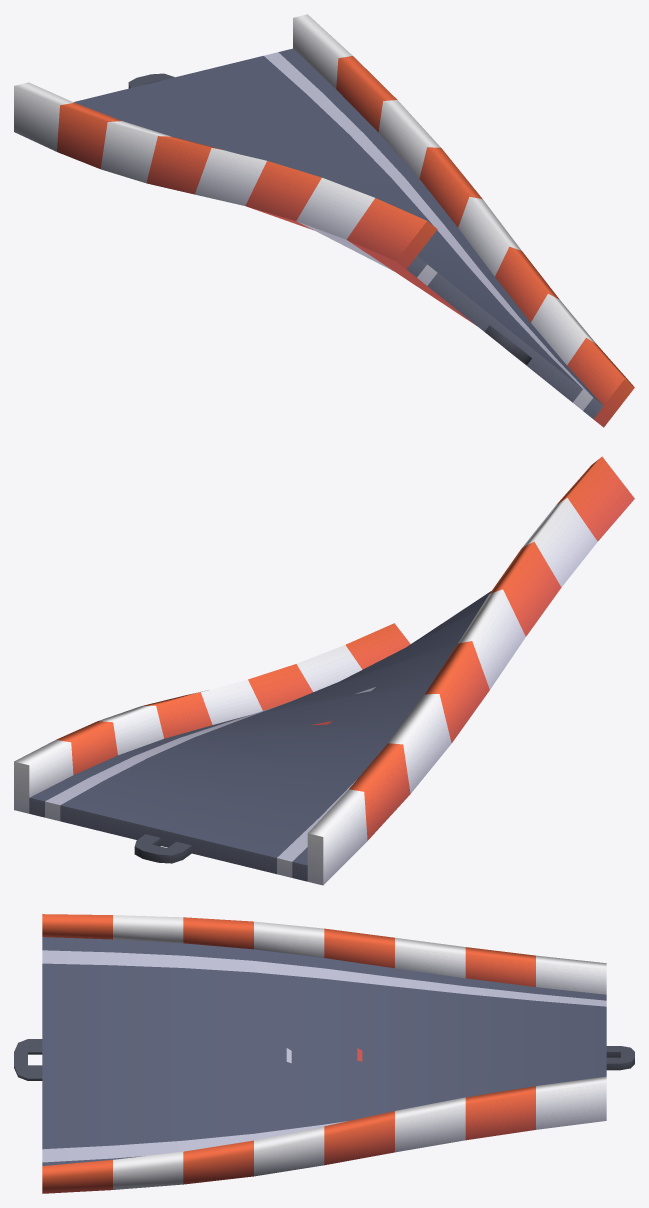
File: track-road-wide-straight-skew-left.glb
3 views of the same model, one above another, from view 1: azimuth 30°, elevation 25°; view 2: azimuth 150°, elevation 25°; view 3: azimuth 270°, elevation 25° (orthographic). The views are drawn at different scales.
Parts seen in each view (by area): view 1: track-road-wide-straight-skew-left; view 2: track-road-wide-straight-skew-left; view 3: track-road-wide-straight-skew-left.
Boxes of the visible parts, left/top/right/bottom form: track-road-wide-straight-skew-left: left=14, top=14, right=634, bottom=427; track-road-wide-straight-skew-left: left=14, top=456, right=634, bottom=885; track-road-wide-straight-skew-left: left=14, top=914, right=634, bottom=1193.
Bounding box in the file's own units: 2.04 × 1.63 × 4.4.
1 material, 1 textured.
